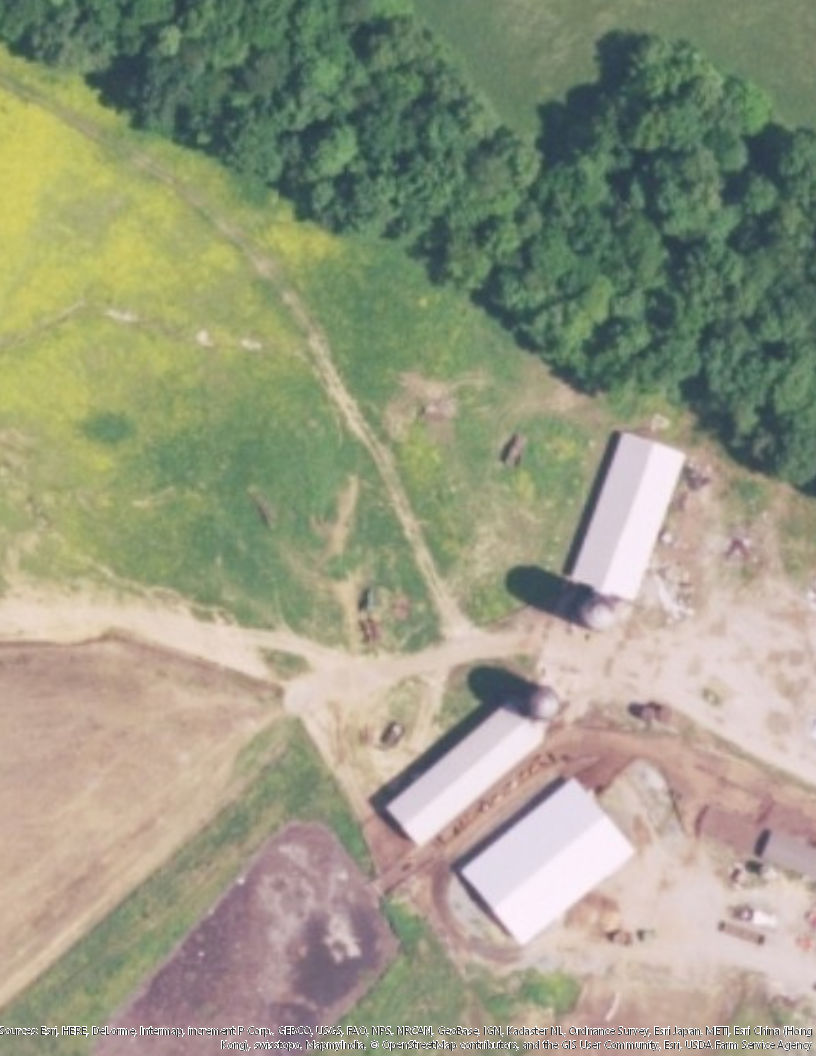cafo: (442, 770, 644, 948), (364, 689, 554, 848), (555, 426, 695, 613)
